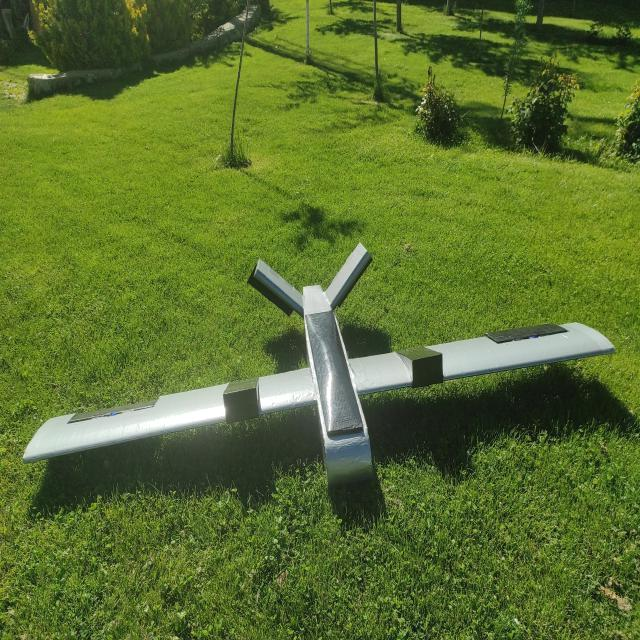plane: (22, 240, 617, 523)
